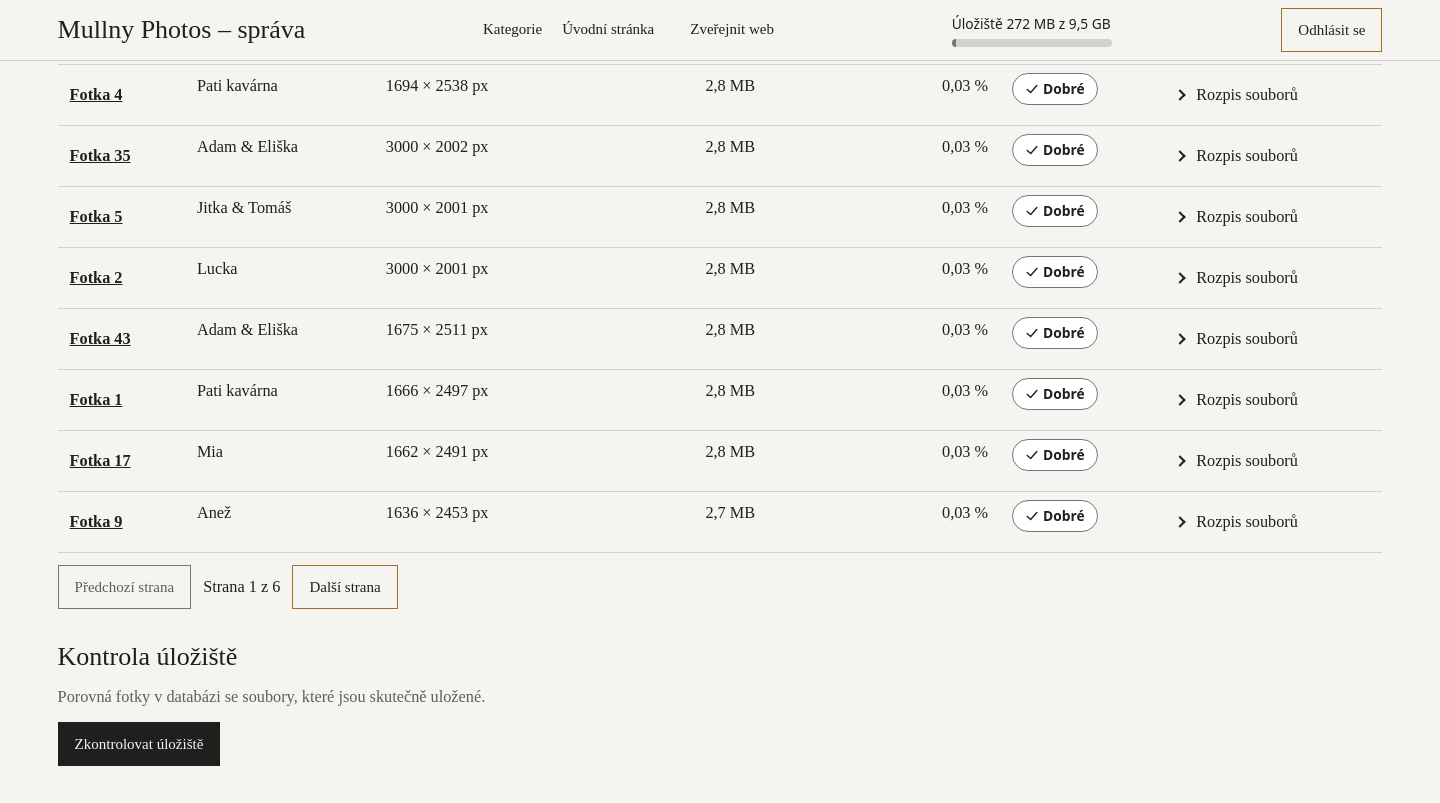
Test: storage screen: check › a failed check says so and offers a retry
The width and height of the screenshot is (1440, 803).
(page scrolled)
Click the button "Zkontrolovat úložiště" at {"x": 139, "y": 744}, box [58,722,220,766]
(page scrolled)
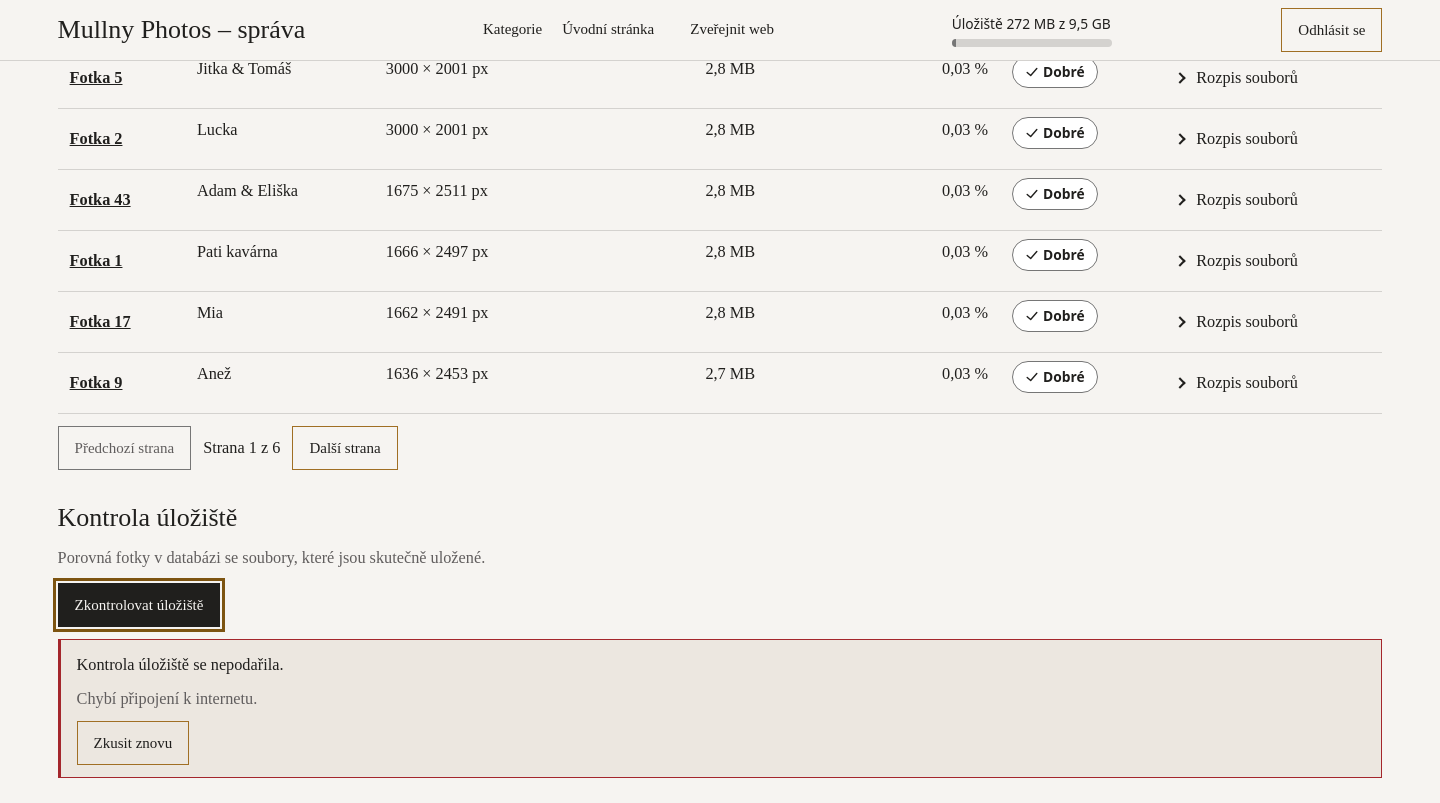
expect the message shows "Kontrola úložiště se nepodařila.": met, box [77,655,284,674]
Click the button "Zkusit znovu" at {"x": 133, "y": 742}, box [77,720,189,764]
(page scrolled)
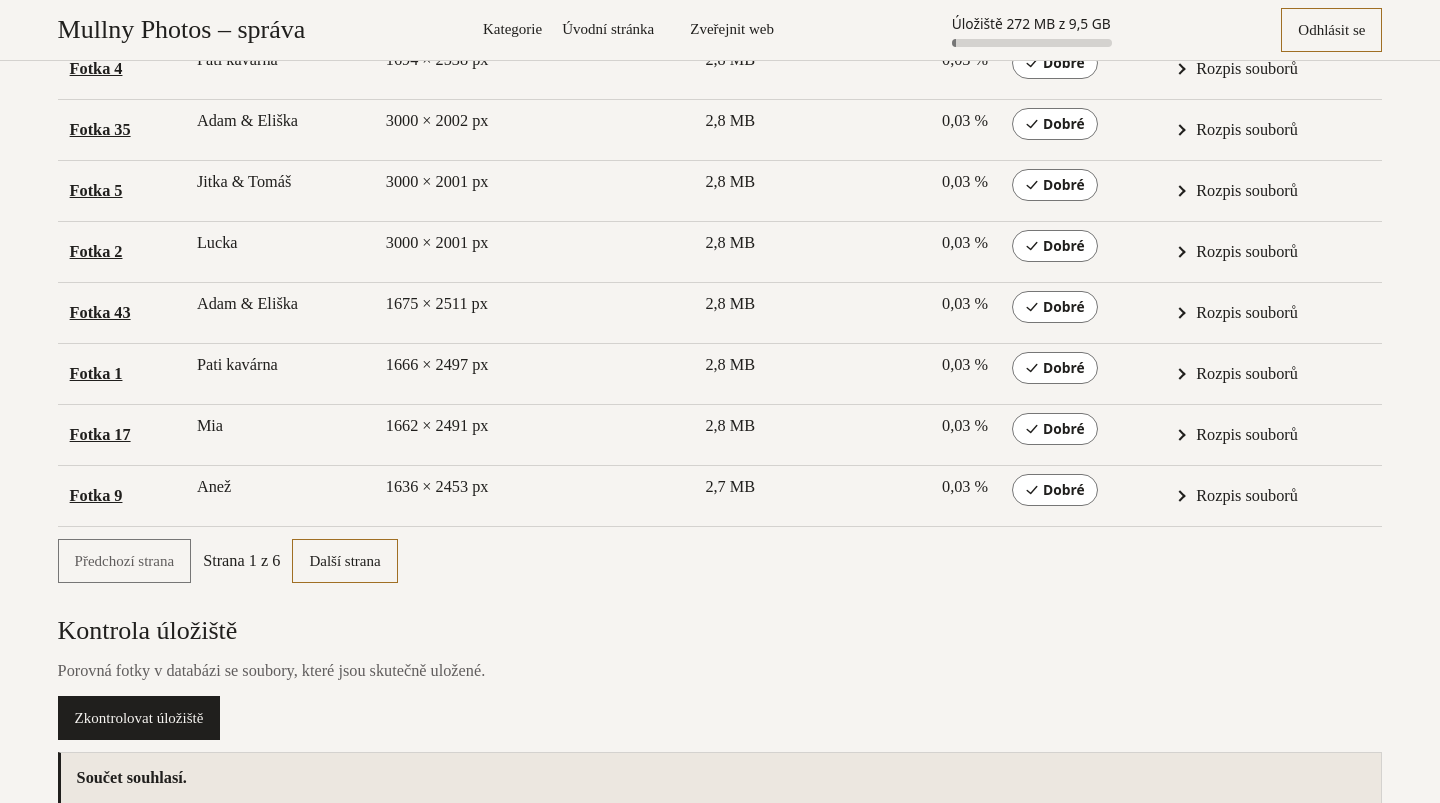
expect the text "Součet souhlasí." is shown: met, box [77,768,187,787]
